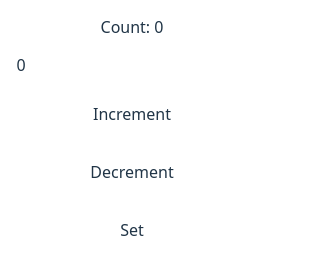
it: test counter component › click on increment should update count
This screenshot has width=320, height=253.
Click the button "Increment": (132, 114) [16, 93, 248, 135]
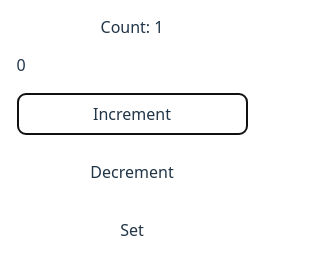
Check: the heading shows "1", box [154, 16, 164, 38]
